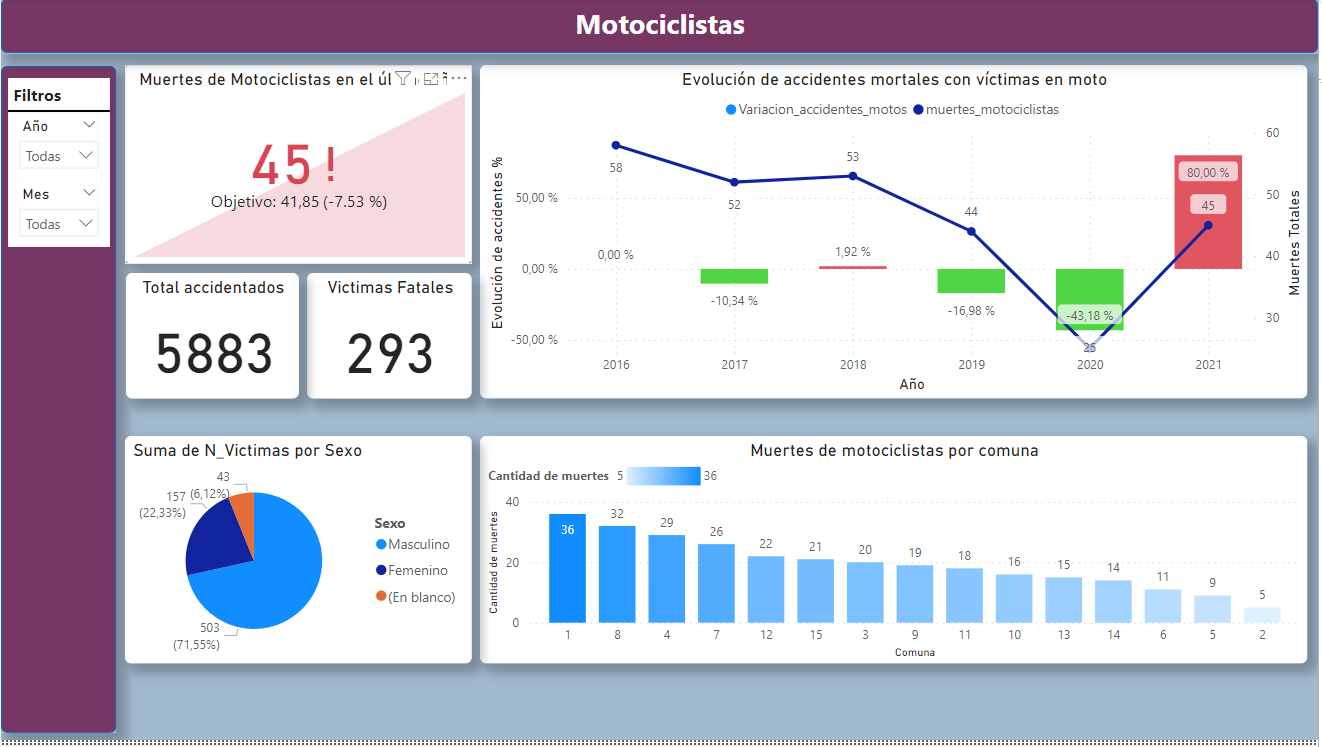

What the dashboard file says about the page in this screenshot:
{"tool":"powerbi","page":{"name":"Motociclistas","canvas":[1280,720],"ordinal":1},"visuals":[{"type":"shape","box":[0,64.6,112.1,648.2],"z":0},{"type":"kpi","title":"Muertes de Motociclistas en el último año","fields":{"TrendLine":["Calendario.Año"],"Indicator":["Medidas Principales.muertes_motociclistas"],"Goal":["Medidas Principales.reduccion_muertes_motociclistas"]},"box":[121,64.4,336.6,193.2],"z":1000},{"type":"columnChart","title":"Muertes de motociclistas por comuna","fields":{"Category":["homicidios_hechos.Comuna"],"Y":["Medidas Principales.muertes_motociclistas"]},"box":[465.4,424.4,803.9,221.5],"z":2000},{"type":"lineClusteredColumnComboChart","title":"Evolución de accidentes mortales con víctimas en moto","fields":{"Category":["Calendario.Año"],"Y":["Medidas Principales.Variacion_accidentes_motos"],"Y2":["Medidas Principales.muertes_motociclistas"]},"box":[465.4,64.4,803.9,323.9],"z":3000},{"type":"pieChart","fields":{"Y":["Sum(homicidios_hechos.N_Victimas)"],"Category":["homicidios_victimas.Sexo"]},"box":[121,424.4,336.6,221.5],"z":4000},{"type":"shape","box":[0,0,1280,52.6],"z":5000},{"type":"textbox","box":[553.4,0,189.6,52.6],"z":6000},{"type":"card","title":"Victimas Fatales","fields":{"Values":["Medidas Principales.muertes_motociclistas"]},"box":[297.6,266.3,160,122],"z":7000},{"type":"card","title":"Total accidentados","fields":{"Values":["Medidas Principales.motociclistas_accidentados"]},"box":[122,266.3,167.8,122],"z":8000},{"type":"textbox","box":[6.8,76.8,99.1,32.1],"z":9000},{"type":"slicer","title":"Año","fields":{"Values":["Calendario.Año"]},"box":[6.8,108.9,99.1,66.1],"z":10000},{"type":"slicer","fields":{"Values":["Calendario.Mes"]},"box":[6.8,174.9,99.1,66.1],"z":11000},{"type":"shape","box":[6.8,96.2,99.1,25.3],"z":12000}]}

Visuals, with their boxes in screenshot pixels (x1, y1, x2, y2), scaled from the page's 1280x720 canvas onto the 1322x747 screenshot:
shape: (left=0, top=67, right=116, bottom=740)
"Muertes de Motociclistas en el último año" kpi: (left=125, top=67, right=473, bottom=267)
"Muertes de motociclistas por comuna" columnChart: (left=481, top=440, right=1311, bottom=670)
"Evolución de accidentes mortales con víctimas en moto" lineClusteredColumnComboChart: (left=481, top=67, right=1311, bottom=403)
pieChart - Sum(homicidios_hechos.N_Victimas) x homicidios_victimas.Sexo: (left=125, top=440, right=473, bottom=670)
shape: (left=0, top=0, right=1321, bottom=55)
textbox: (left=572, top=0, right=767, bottom=55)
"Victimas Fatales" card: (left=307, top=276, right=473, bottom=403)
"Total accidentados" card: (left=126, top=276, right=299, bottom=403)
textbox: (left=7, top=80, right=109, bottom=113)
"Año" slicer: (left=7, top=113, right=109, bottom=182)
slicer - Calendario.Mes: (left=7, top=181, right=109, bottom=250)
shape: (left=7, top=100, right=109, bottom=126)
